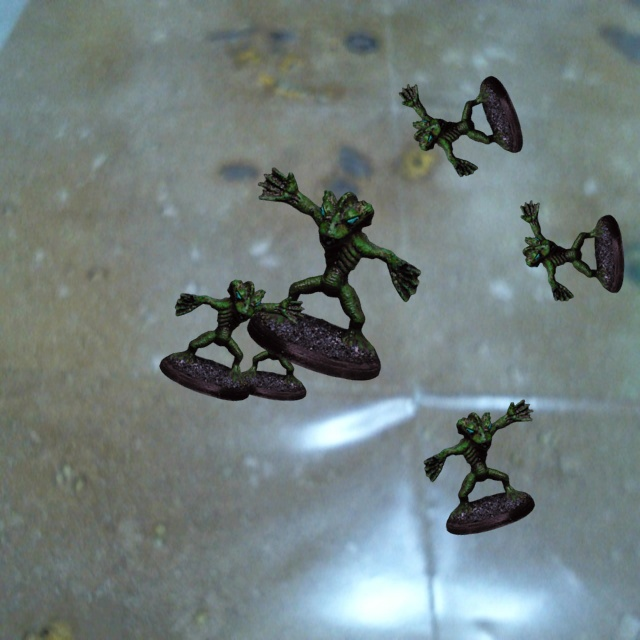pieza_juego: (247, 167, 420, 380), (159, 279, 304, 400), (423, 399, 534, 534), (399, 76, 522, 176), (520, 200, 623, 301), (227, 299, 317, 400)
